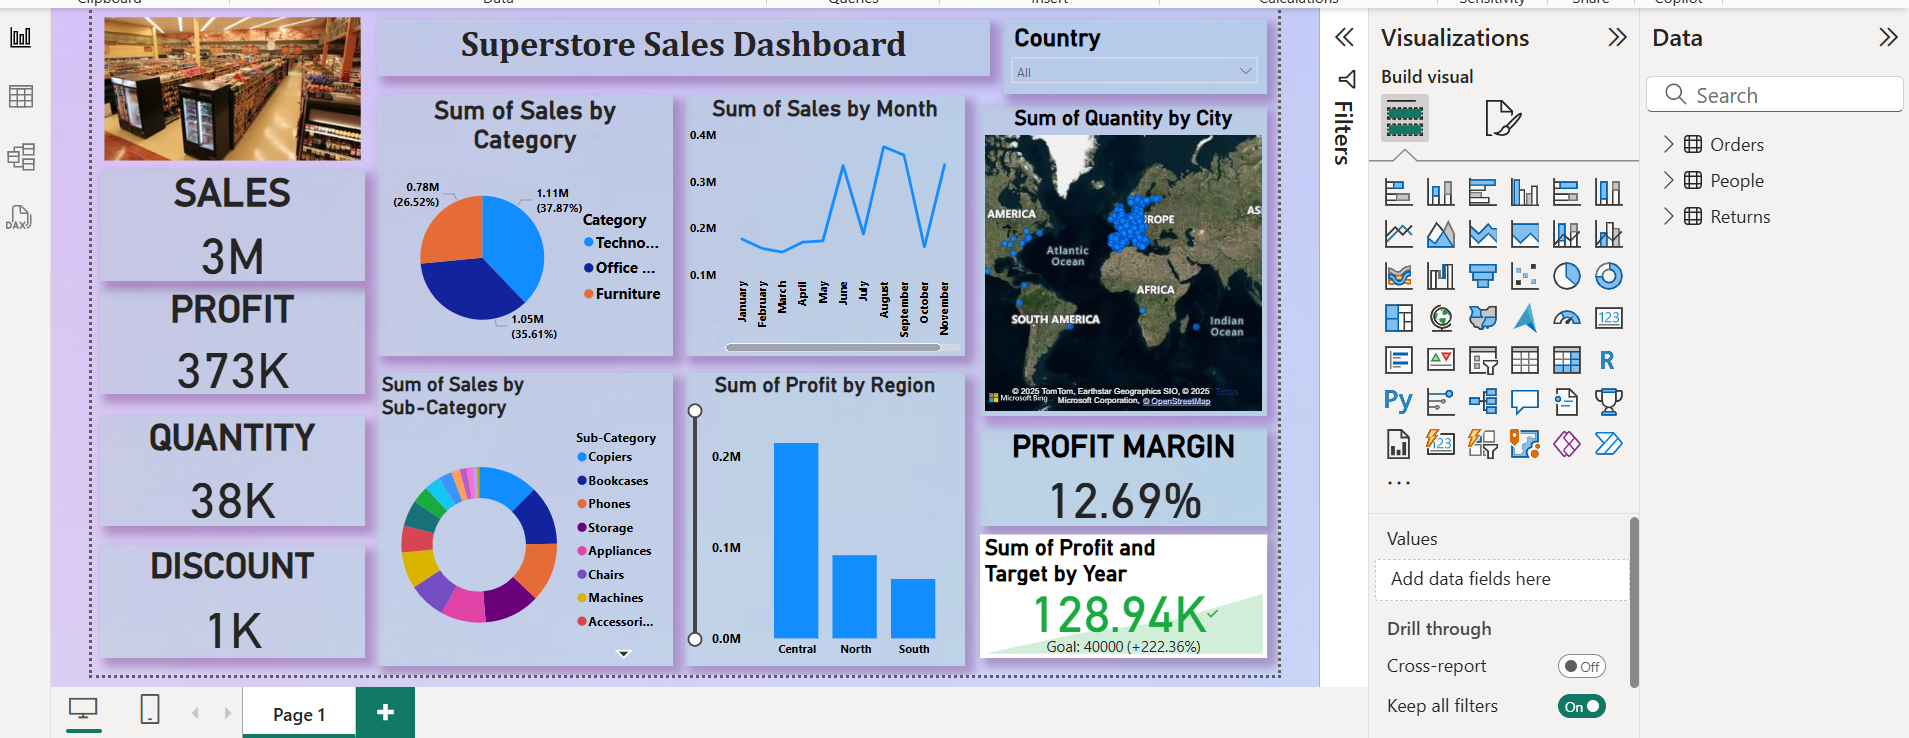

This screenshot's page, from the dashboard's own definition file:
{"tool":"powerbi","page":{"name":"Page 1","canvas":[1280,720],"ordinal":0},"visuals":[{"type":"textbox","box":[308.3,11.7,661.7,61.7],"z":0},{"type":"card","title":"SALES","fields":{"Values":["Sum(Orders.Sales)"]},"box":[8.3,175,286.7,120],"z":1000},{"type":"card","title":"PROFIT","fields":{"Values":["Sum(Orders.Profit)"]},"box":[8.3,301.7,286.7,115],"z":2000},{"type":"card","title":"QUANTITY","fields":{"Values":["Sum(Orders.Quantity)"]},"box":[8.3,440,286.7,118.3],"z":3000},{"type":"card","title":"DISCOUNT","fields":{"Values":["Sum(Orders.Discount)"]},"box":[8.3,580,286.7,121.7],"z":4000},{"type":"pieChart","fields":{"Y":["Sum(Orders.Sales)"],"Category":["Orders.Category"]},"box":[308.3,93.3,320,281.7],"z":5000},{"type":"donutChart","fields":{"Category":["Orders.Sub-Category"],"Y":["Sum(Orders.Sales)"]},"box":[308.3,393.3,320,316.7],"z":6000},{"type":"lineChart","fields":{"Y":["Sum(Orders.Sales)"],"Category":["Orders.Order Date.Variation.Date Hierarchy.Month"]},"box":[640,93.3,303.3,281.7],"z":7000},{"type":"columnChart","fields":{"Category":["Orders.Region"],"Y":["Sum(Orders.Profit)"]},"box":[640,393.3,303.3,316.7],"z":8000},{"type":"card","title":"PROFIT MARGIN","fields":{"Values":["Orders.Profit_margin"]},"box":[958.3,453.3,310,105],"z":9000},{"type":"kpi","fields":{"Indicator":["Sum(Orders.Profit)"],"Goal":["Orders.Target"],"TrendLine":["Orders.Order Date.Variation.Date Hierarchy.Year"]},"box":[958.3,568.3,310,133.3],"z":10000},{"type":"slicer","fields":{"Values":["Orders.Country"]},"box":[983.3,11.7,285,81.7],"z":11000},{"type":"image","box":[8.3,0,286.7,175],"z":12000},{"type":"map","fields":{"Category":["Orders.City"]},"box":[958.6,105.2,309.3,335.2],"z":13000}]}

Visuals, with their boxes on the page's 1280x720 design canvas (x1, y1, x2, y2). These are canvas units, not pixel positions in the 1909x738 screenshot, which may show the page scaled, cropped or inside an application window:
textbox: (left=308, top=12, right=970, bottom=73)
"SALES" card: (left=8, top=175, right=295, bottom=295)
"PROFIT" card: (left=8, top=302, right=295, bottom=417)
"QUANTITY" card: (left=8, top=440, right=295, bottom=558)
"DISCOUNT" card: (left=8, top=580, right=295, bottom=702)
pieChart - Sum(Orders.Sales) x Orders.Category: (left=308, top=93, right=628, bottom=375)
donutChart - Orders.Sub-Category x Sum(Orders.Sales): (left=308, top=393, right=628, bottom=710)
lineChart - Sum(Orders.Sales) x Orders.Order Date.Variation.Date Hierarchy.Month: (left=640, top=93, right=943, bottom=375)
columnChart - Orders.Region x Sum(Orders.Profit): (left=640, top=393, right=943, bottom=710)
"PROFIT MARGIN" card: (left=958, top=453, right=1268, bottom=558)
kpi - Sum(Orders.Profit) x Orders.Target: (left=958, top=568, right=1268, bottom=702)
slicer - Orders.Country: (left=983, top=12, right=1268, bottom=93)
image: (left=8, top=0, right=295, bottom=175)
map - Orders.City: (left=959, top=105, right=1268, bottom=440)
